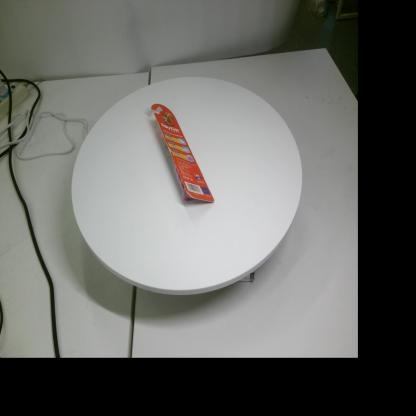Personal Hygiene: (151, 104, 214, 202)
